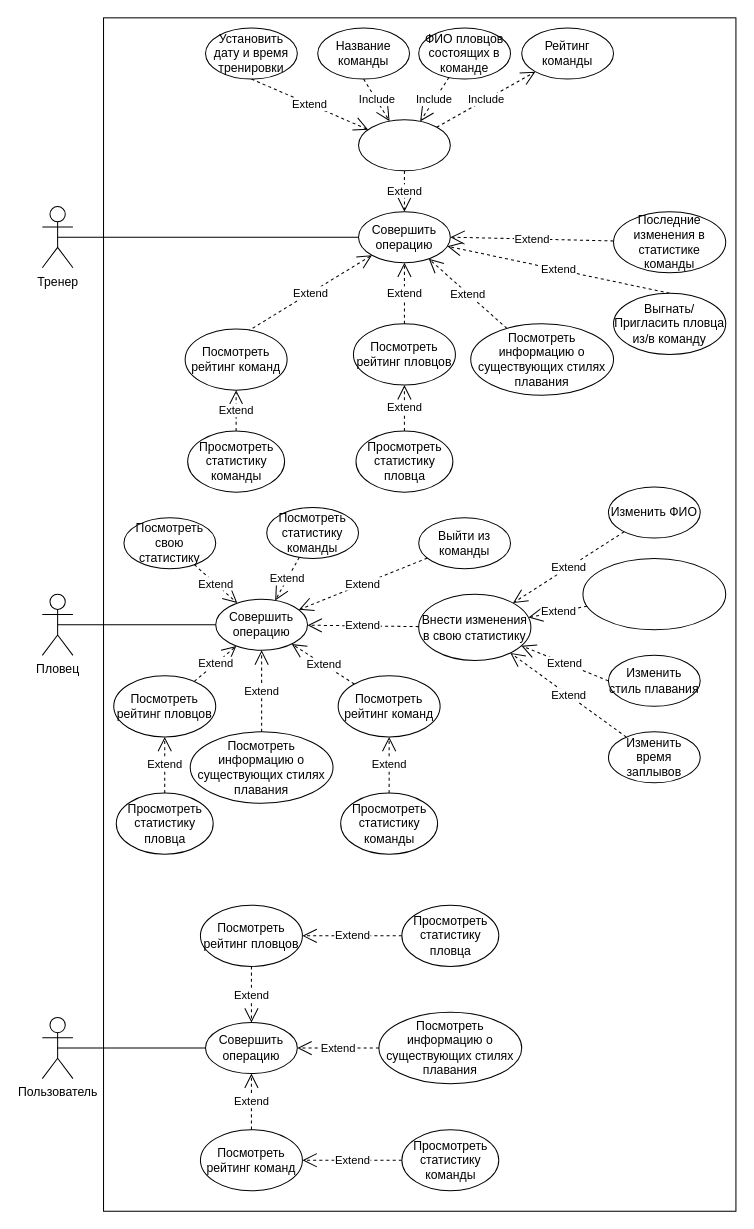
This 754x1229 diagram has some shape labels left out. Here are the shapes that lost their labels. From the top down, the centre of each, then its label:
the point at 404,145: Просмотр информации о команде
the point at 654,593: Изменить количество выигранных соревнований
